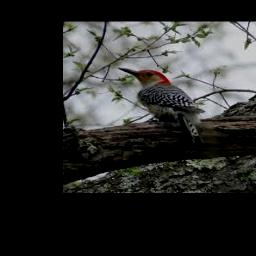Woodpecker: (117, 67, 204, 145)
